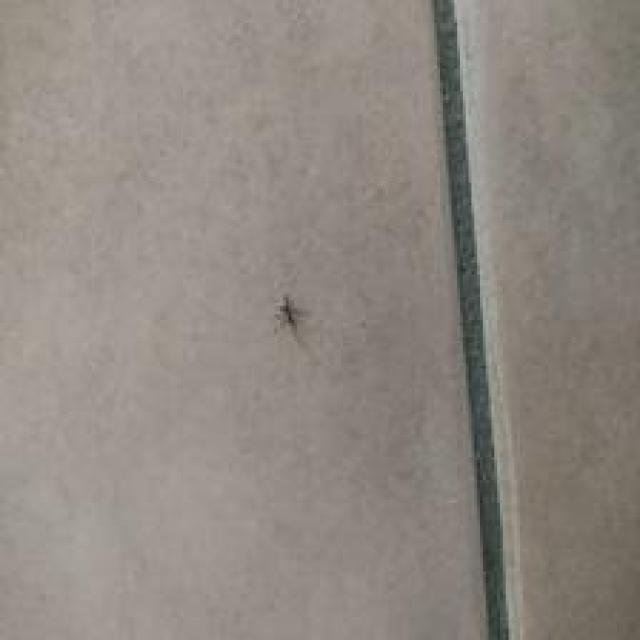Aedes albopictus: (273, 293, 301, 333)
